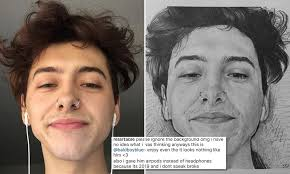earphone: (110, 95, 121, 128), (20, 94, 31, 126)
